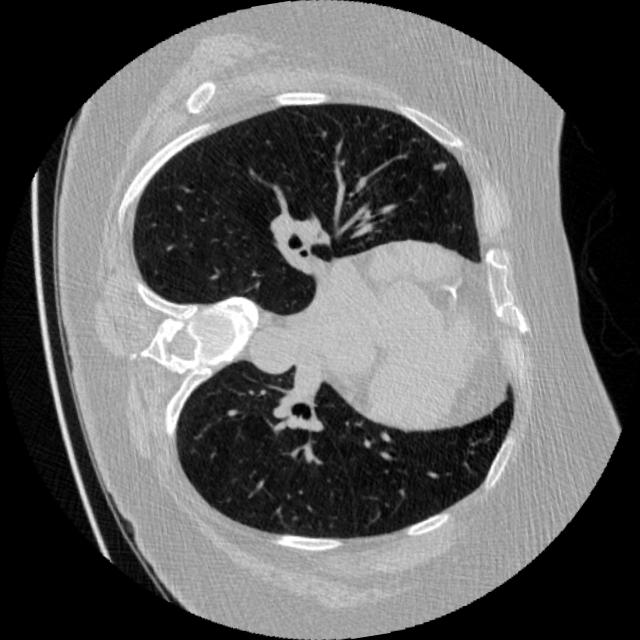nodule: (427, 152, 452, 177)
